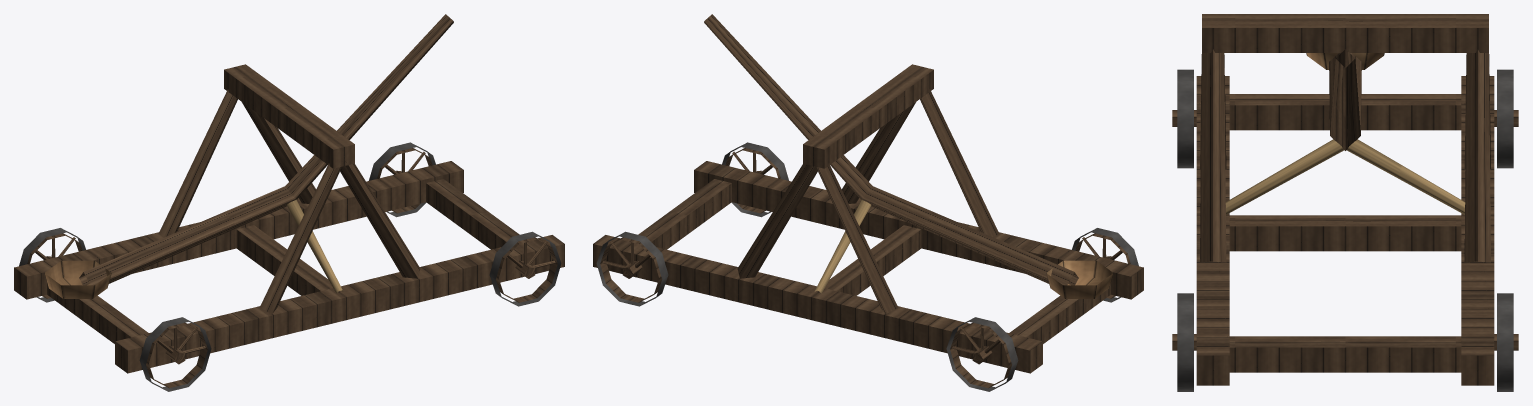
Rendered from Catapult_1_LOD1.gltf.
3 views of the same model, side by side, from view 1: azimuth 30°, elevation 25°; view 2: azimuth 150°, elevation 25°; view 3: azimuth 270°, elevation 25° (orthographic). The views are drawn at different scales.
Parts seen in each view (by area): view 1: Catapult_1_LOD1; view 2: Catapult_1_LOD1; view 3: Catapult_1_LOD1.
Part boxes in pixels (x1,y1,x2,y2): Catapult_1_LOD1: [14, 14, 564, 391]; Catapult_1_LOD1: [593, 14, 1143, 391]; Catapult_1_LOD1: [1172, 14, 1518, 391].
Size of the model in its own units: 6.25 by 3.25 by 3.14.
Materials: 4 (4 with a texture image).
